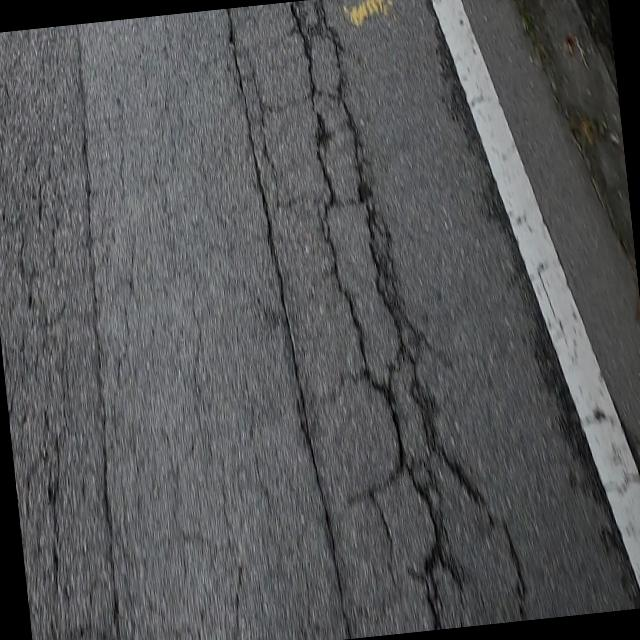Retak-Buaya: (224, 0, 524, 639), (0, 24, 117, 640)
